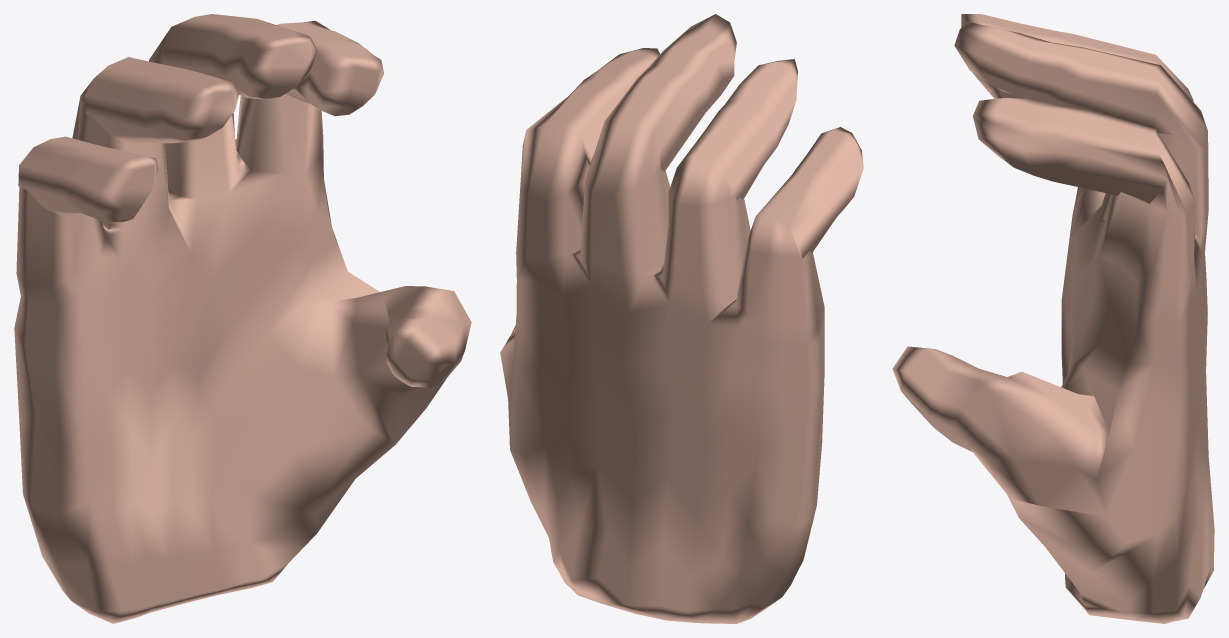
The model's file is ANGULO_ABERTO.obj.
3 views of the same model, side by side, from view 1: azimuth 30°, elevation 25°; view 2: azimuth 150°, elevation 25°; view 3: azimuth 270°, elevation 25° (orthographic). The views are drawn at different scales.
Visible parts, largest first — view 1: mao_dir:mao_dir; view 2: mao_dir:mao_dir; view 3: mao_dir:mao_dir.
Boxes of the visible parts, bbox=[...] form: mao_dir:mao_dir: bbox=[14, 14, 471, 623]; mao_dir:mao_dir: bbox=[500, 14, 863, 623]; mao_dir:mao_dir: bbox=[892, 14, 1214, 623].
Size of the model in its own units: 135 by 202 by 103.
